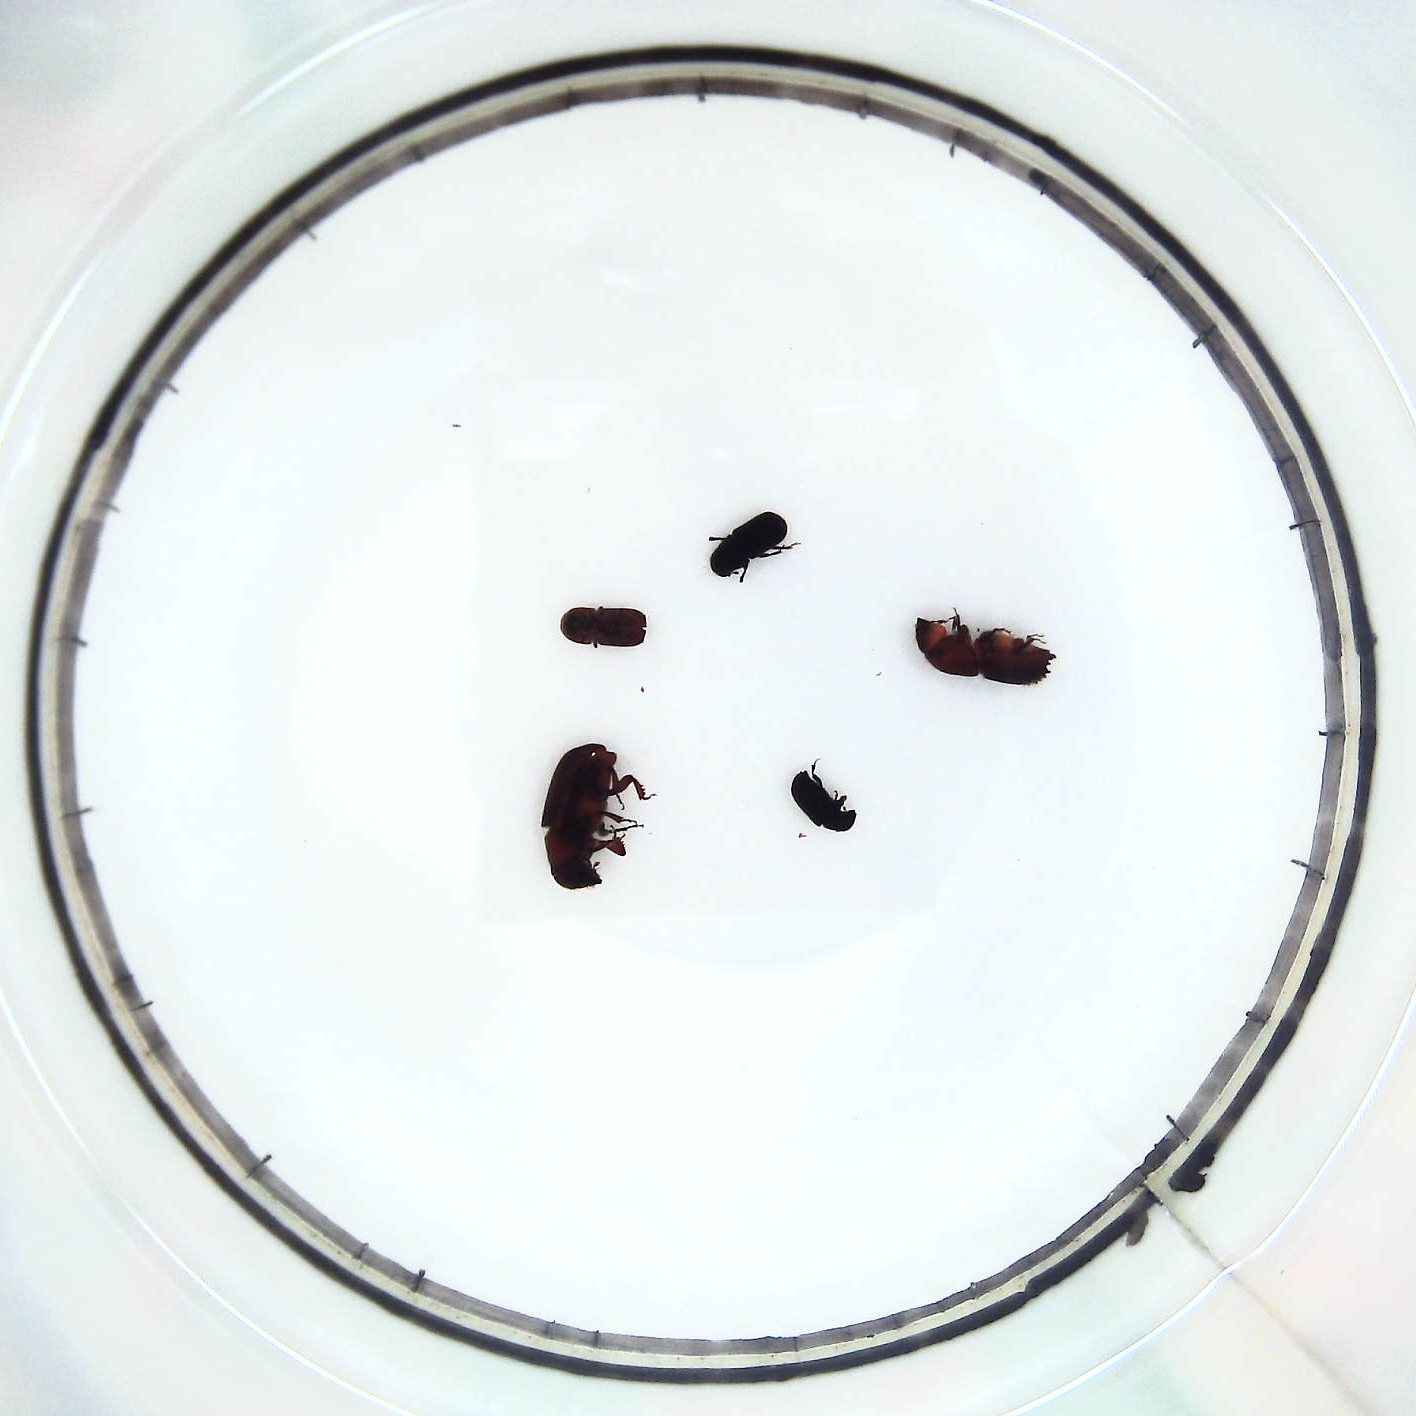Boerner: (910, 607, 1059, 692)
Leconte: (539, 737, 642, 900)
armandi: (705, 510, 800, 584)
coleoptera: (786, 761, 858, 839)
linnaeus: (554, 600, 656, 656)
